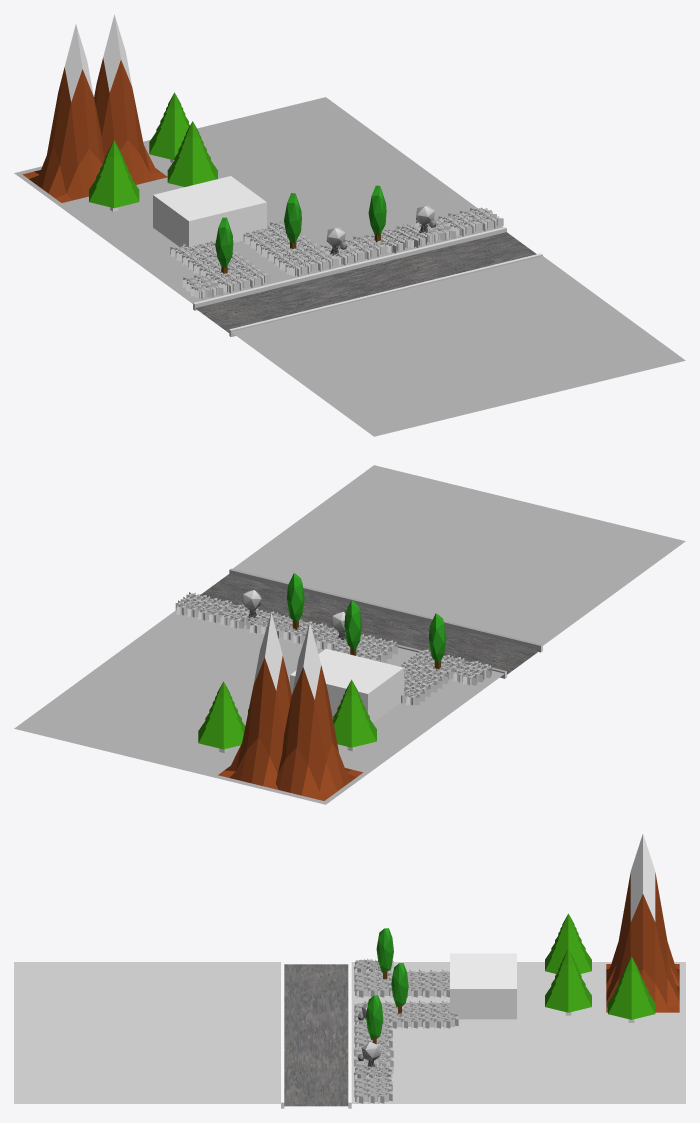
File: Mod_1_LOD1.fbx
The picture shows the model from 3 angles, top to bottom: view 1: azimuth 30°, elevation 25°; view 2: azimuth 150°, elevation 25°; view 3: azimuth 270°, elevation 25°; orthographic projection. The views are drawn at different scales.
Visible parts, largest first — view 1: Module_5_SM_LOD1; view 2: Module_5_SM_LOD1; view 3: Module_5_SM_LOD1.
Boxes of the visible parts, x1,y1,x2,y2 form: Module_5_SM_LOD1: (14,14,685,436); Module_5_SM_LOD1: (14,465,685,804); Module_5_SM_LOD1: (14,834,685,1108).
Size of the model in its own units: 5023 by 10000 by 2484.
